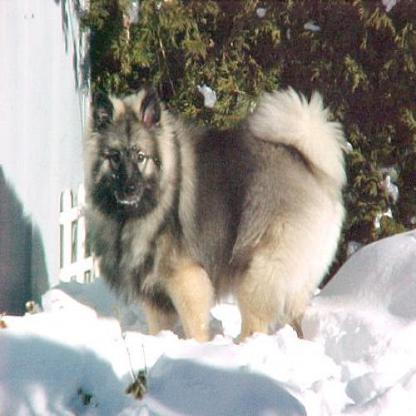keeshond: (84, 80, 350, 343)
